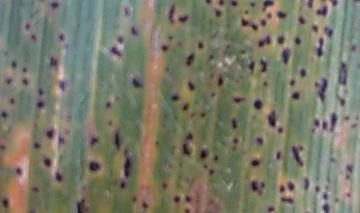tarspot: (290, 143, 307, 169), (313, 76, 328, 101), (336, 60, 348, 86), (314, 34, 325, 61), (106, 44, 122, 60), (250, 179, 265, 196), (266, 107, 277, 129), (328, 111, 339, 133), (166, 2, 176, 26), (122, 155, 131, 181), (110, 130, 121, 151), (280, 46, 291, 67), (85, 159, 99, 175), (75, 197, 88, 213), (183, 51, 195, 68), (129, 76, 144, 89), (274, 32, 287, 47), (259, 1, 276, 12), (258, 57, 268, 75), (334, 93, 346, 108), (246, 56, 255, 76), (257, 35, 272, 47), (252, 97, 263, 113), (180, 141, 190, 158), (315, 4, 328, 17), (322, 24, 333, 39), (301, 175, 310, 193), (310, 118, 320, 134), (46, 55, 58, 68), (177, 13, 190, 25), (238, 16, 250, 29), (121, 4, 132, 18), (230, 95, 247, 104), (279, 195, 294, 205), (129, 25, 140, 38), (291, 35, 304, 46), (47, 1, 61, 11), (57, 78, 66, 93), (45, 127, 54, 142), (321, 201, 332, 213), (276, 8, 287, 20), (213, 7, 223, 20), (53, 170, 63, 183), (284, 180, 293, 194), (21, 21, 32, 32), (28, 32, 39, 43), (41, 157, 52, 168), (198, 149, 208, 161), (159, 179, 169, 191), (215, 74, 223, 89), (289, 90, 299, 102), (55, 134, 65, 146), (296, 14, 306, 26), (196, 39, 205, 52), (231, 116, 238, 132), (56, 32, 67, 42), (168, 92, 179, 102), (348, 43, 358, 54), (344, 162, 354, 173), (248, 22, 258, 33), (327, 155, 338, 165), (89, 135, 98, 147), (320, 191, 329, 203), (298, 66, 307, 78), (258, 16, 267, 28), (182, 101, 190, 114), (320, 119, 328, 132), (32, 141, 42, 151), (250, 158, 260, 168), (254, 135, 264, 145), (287, 78, 297, 88), (13, 166, 23, 176), (186, 80, 195, 91), (175, 39, 184, 50), (1, 198, 10, 209), (9, 58, 17, 70), (26, 205, 38, 213), (115, 34, 124, 44), (207, 167, 216, 177), (118, 180, 127, 190), (184, 132, 193, 142), (305, 1, 315, 10), (324, 175, 333, 185), (275, 149, 282, 161), (20, 78, 29, 87), (20, 65, 29, 74), (275, 126, 284, 135), (238, 47, 247, 56), (35, 100, 45, 108), (36, 86, 44, 96), (140, 198, 148, 208), (312, 183, 320, 193), (350, 120, 358, 130), (1, 142, 8, 153), (229, 1, 240, 8), (1, 110, 9, 119), (159, 44, 168, 52), (266, 205, 275, 213), (206, 52, 215, 60), (310, 23, 318, 32), (343, 173, 352, 181), (341, 112, 349, 121), (184, 194, 191, 204), (106, 118, 113, 128), (30, 186, 40, 193), (261, 80, 269, 88), (165, 33, 173, 41), (344, 189, 352, 197), (163, 65, 171, 73), (322, 184, 330, 192), (5, 77, 12, 86), (105, 100, 112, 109), (212, 153, 219, 162), (130, 195, 137, 204), (232, 135, 239, 144), (198, 111, 205, 119), (217, 1, 225, 8), (248, 1, 256, 8), (242, 8, 249, 16), (279, 183, 284, 194), (353, 114, 360, 121), (210, 91, 217, 98), (173, 195, 179, 203), (266, 11, 271, 20), (201, 163, 207, 170), (122, 147, 128, 154), (154, 139, 160, 146), (333, 196, 339, 203), (204, 1, 212, 6), (350, 1, 360, 5), (9, 96, 13, 105), (183, 207, 189, 213), (329, 1, 335, 7), (318, 1, 326, 3)
